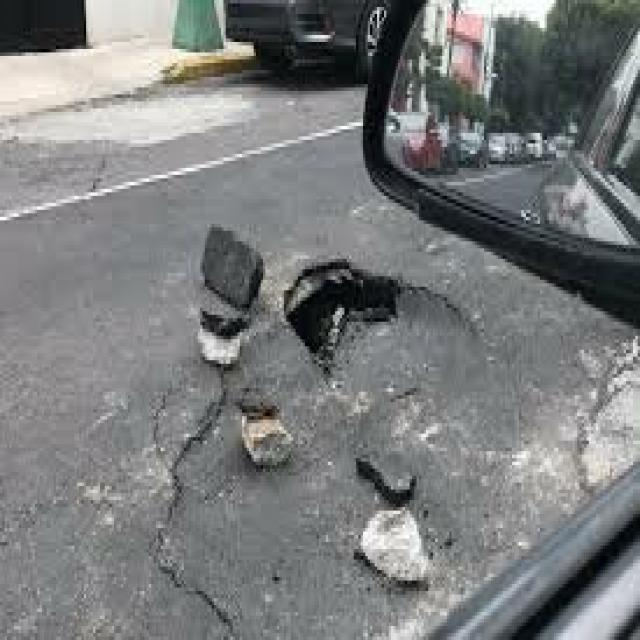Pothole: (240, 213, 519, 444)
